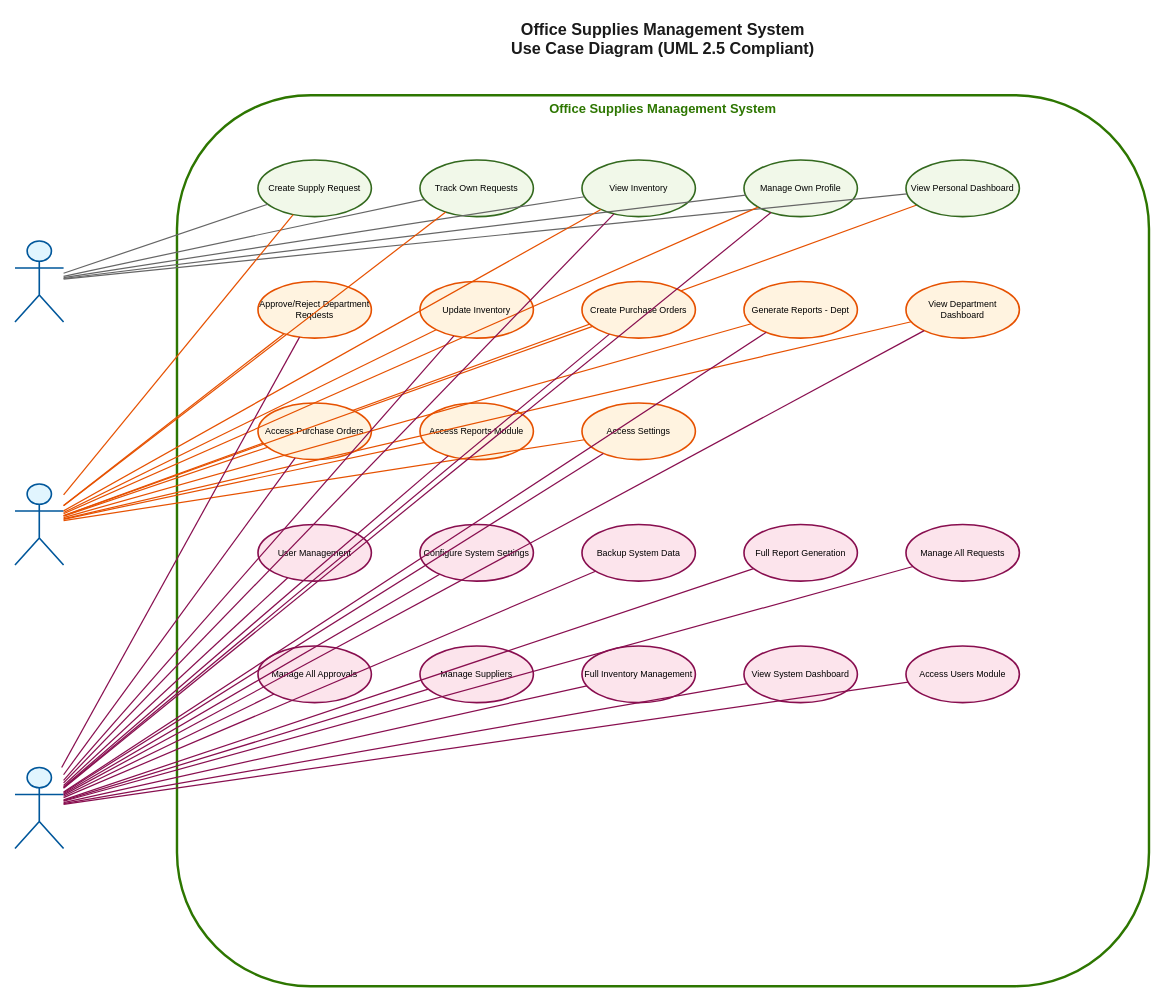
Image size: 1164x1001. Some labels were removed from this diagram. Each missing label, with the centre of its shape:
Admin: point (39, 807)
Employee: point (39, 281)
Manager: point (39, 524)
